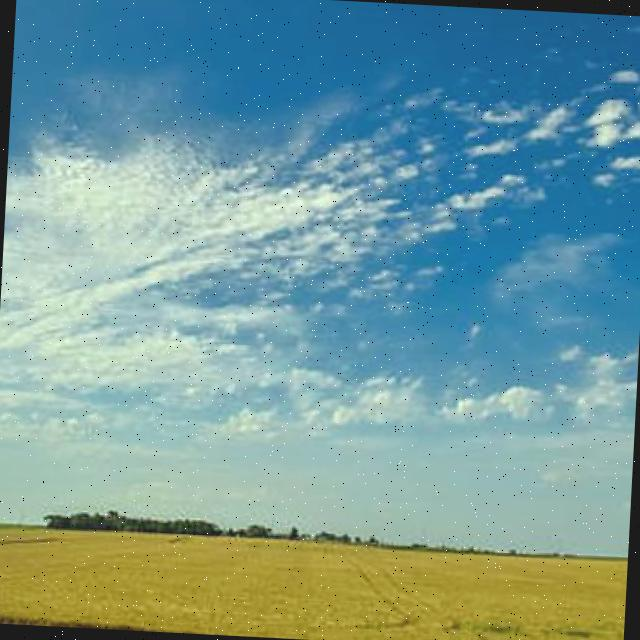Cs: (1, 115, 465, 476)
